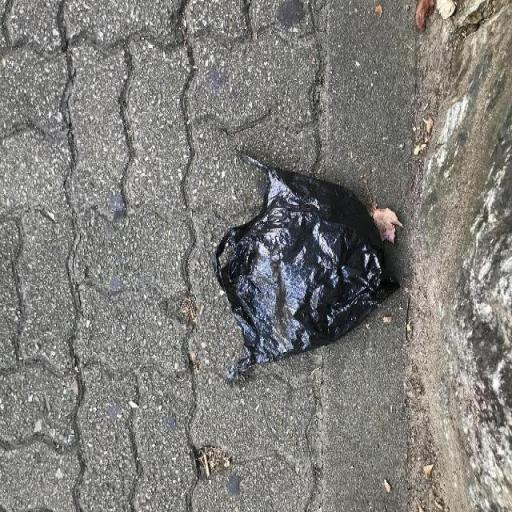plastic-bag: (213, 148, 403, 372)
